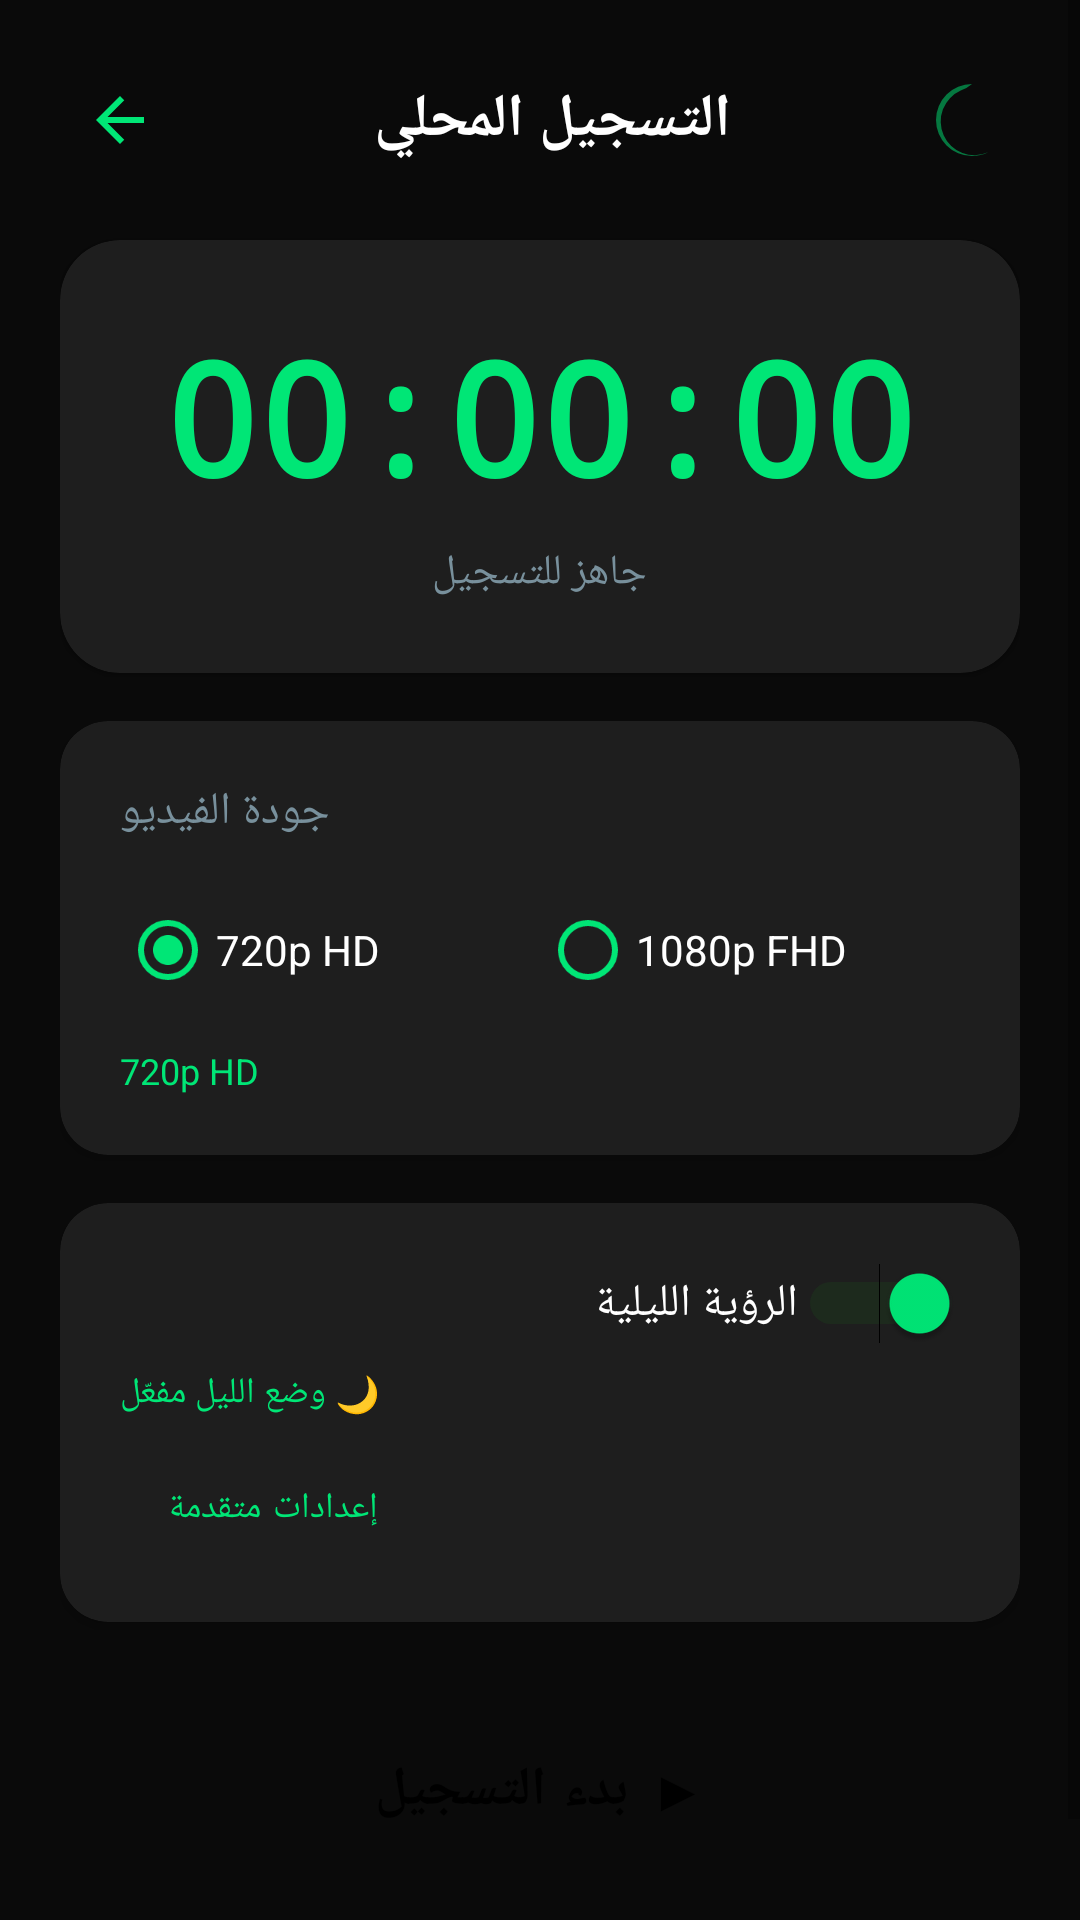

Named icons in this screenshot (1080x1920) and their centers, (x=x, y=y):
moon: (x=961, y=120)
رجوع: (x=120, y=120)
